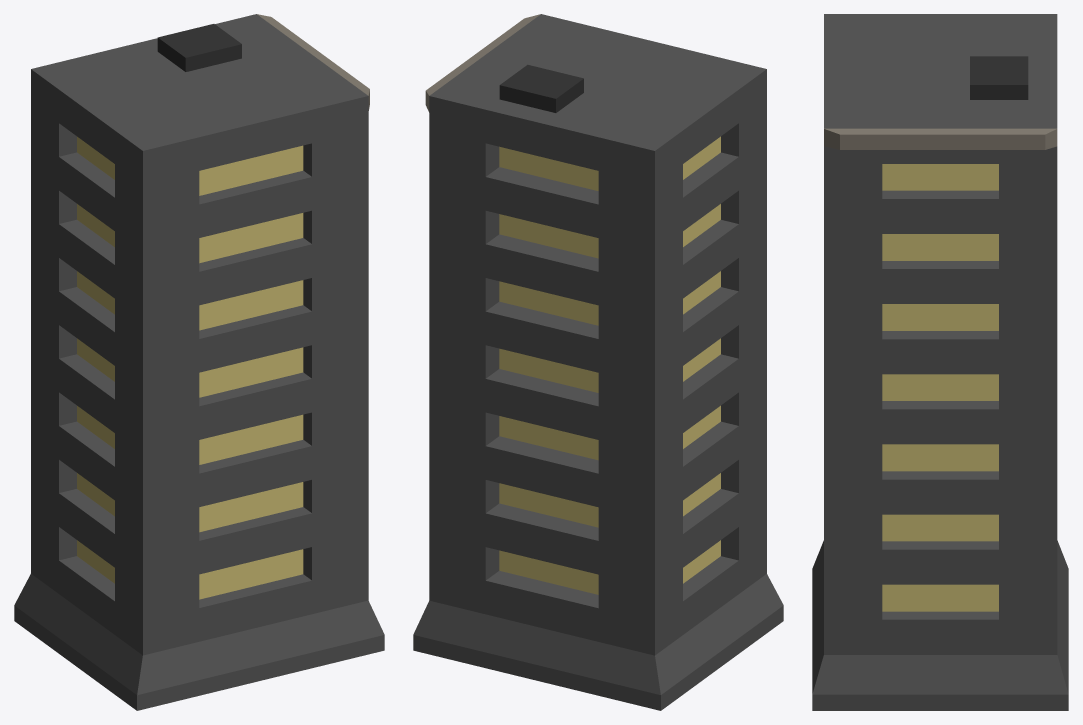
Rendered from edificio grande.fbx.
3 renders of one model, left to right at view 1: azimuth 30°, elevation 25°; view 2: azimuth 150°, elevation 25°; view 3: azimuth 270°, elevation 25°, orthographic. The views are drawn at different scales.
Parts seen in each view (by area): view 1: Cube; view 2: Cube; view 3: Cube.
Boxes of the visible parts, x1,y1,x2,y2 form: Cube: (14, 14, 384, 710); Cube: (413, 14, 783, 710); Cube: (812, 14, 1068, 710).
Bounding box in the file's own units: 323 × 708 × 278.
